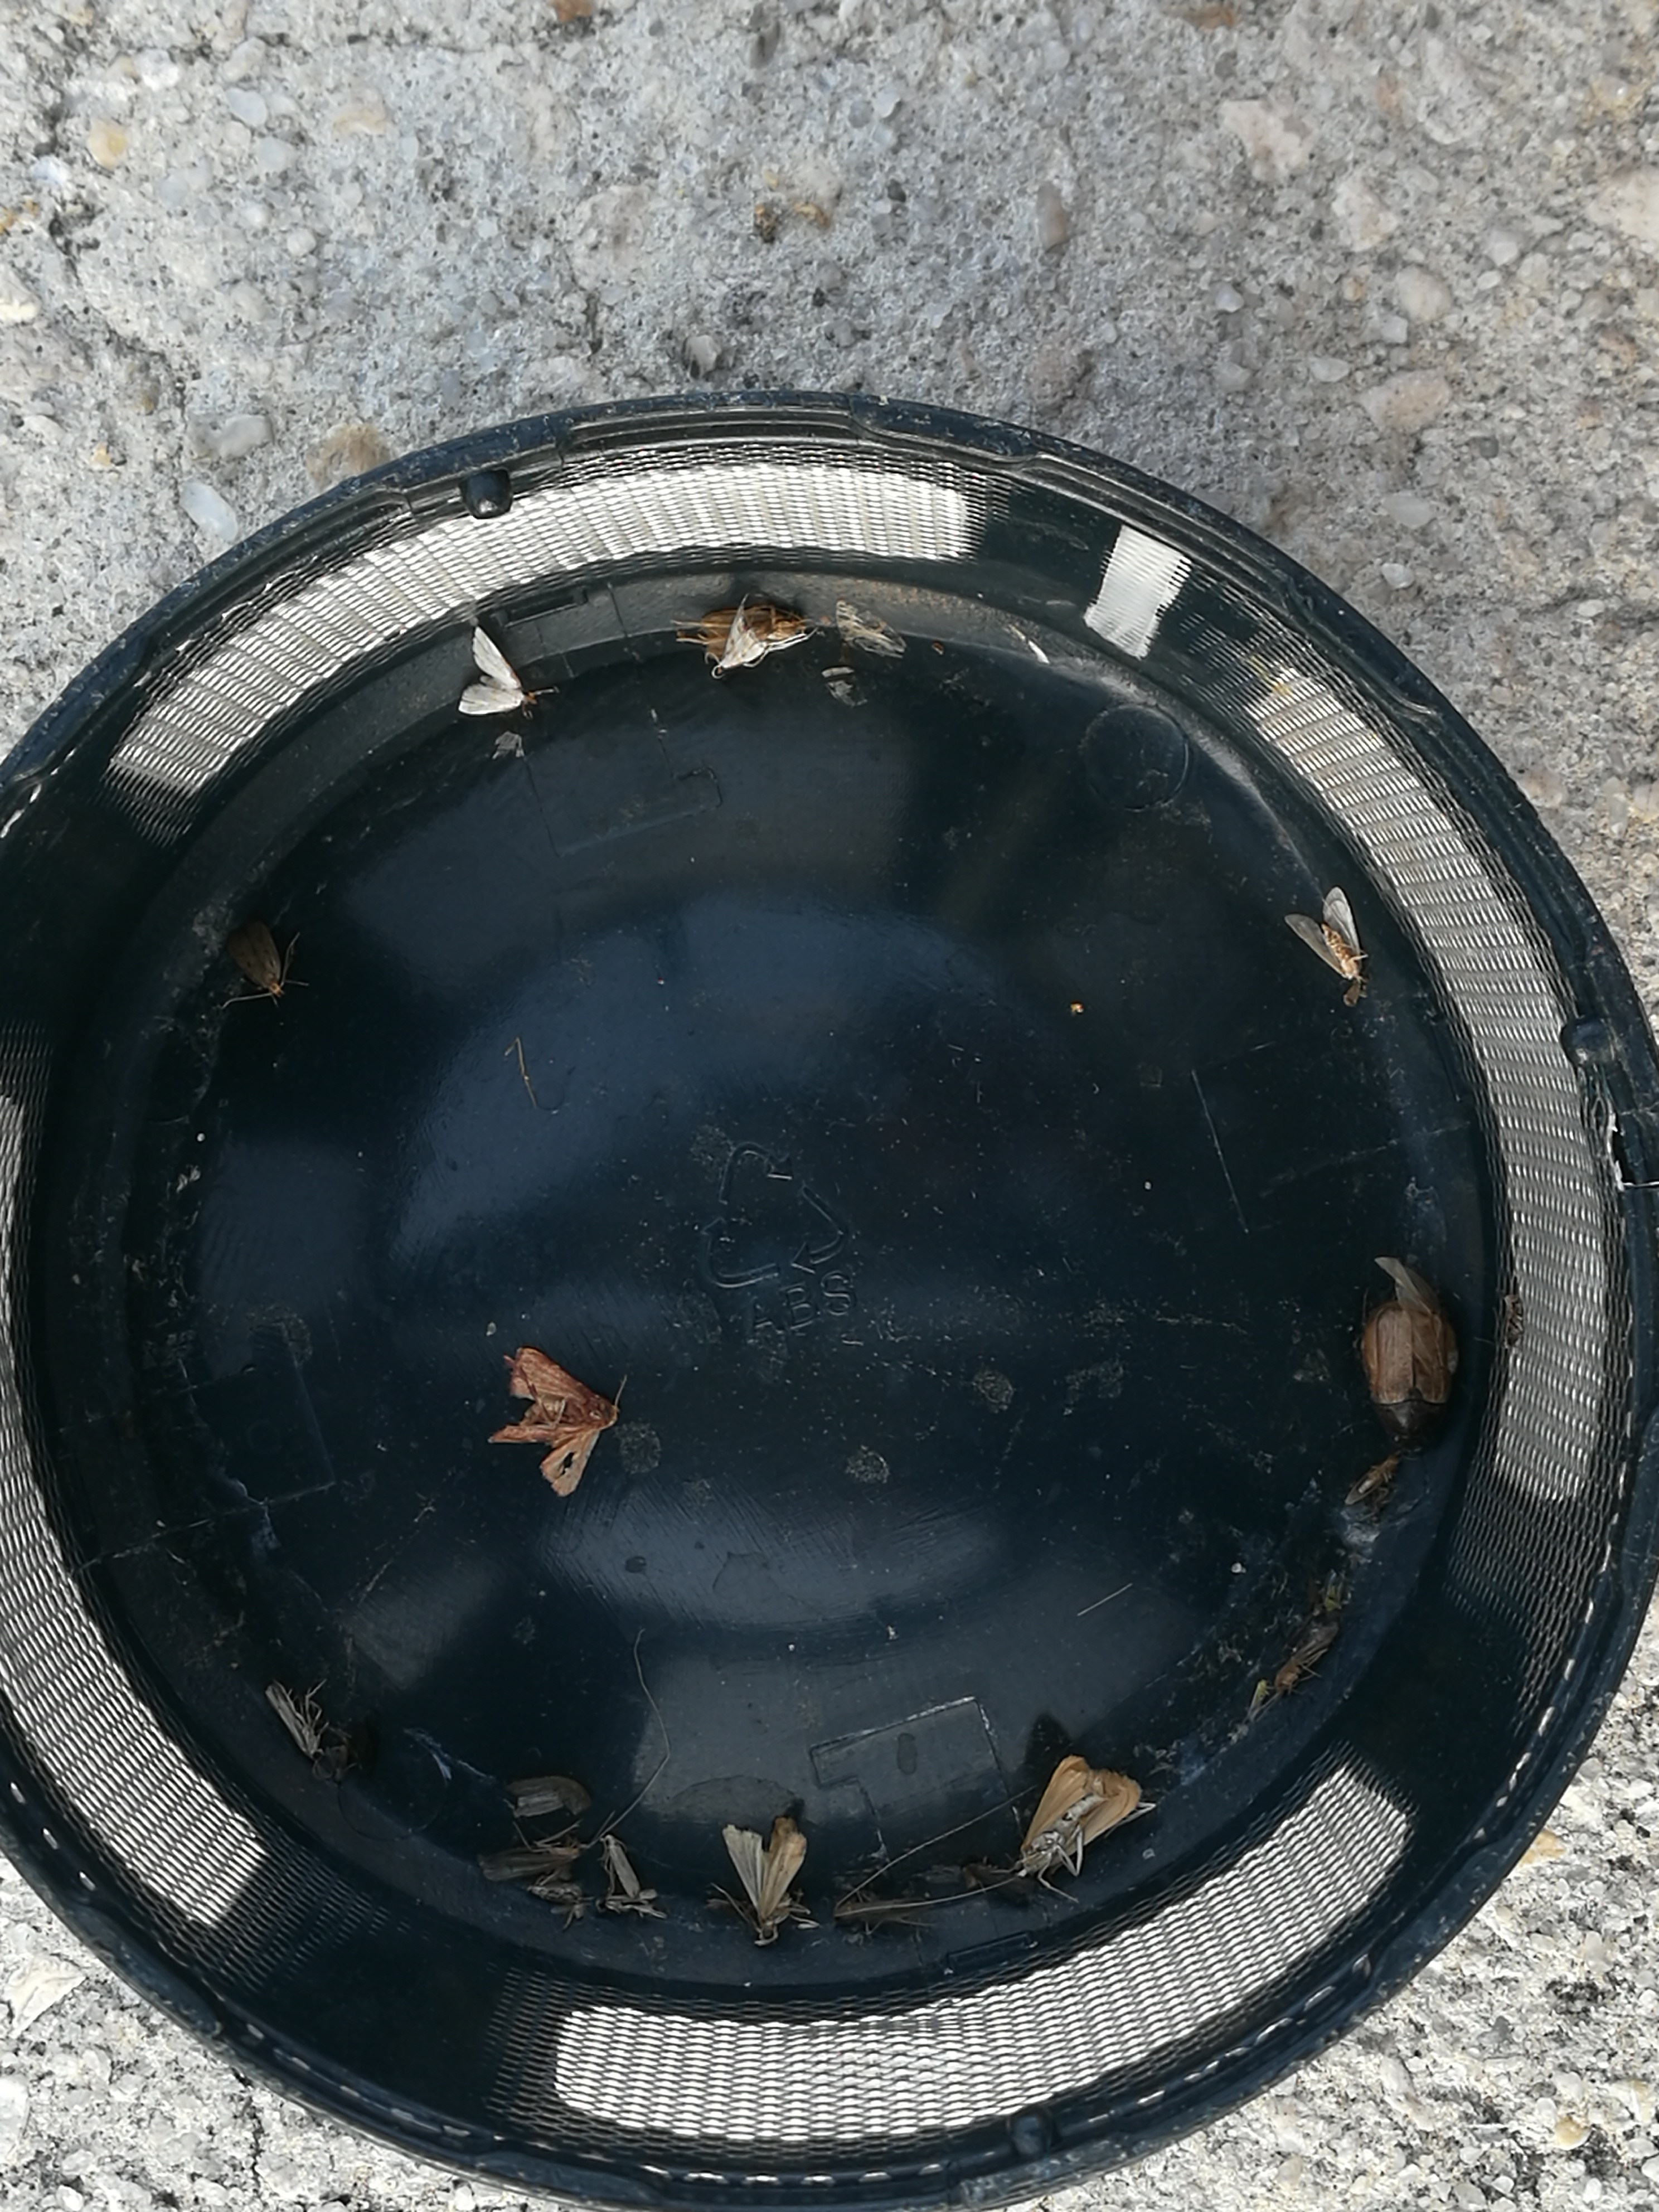beetle: (1364, 1303, 1459, 1437)
mosquito: (1272, 1620, 1342, 1693), (265, 1683, 321, 1761), (699, 610, 800, 650), (479, 1844, 584, 1881), (964, 1860, 1032, 1909), (1349, 1453, 1399, 1505), (601, 1832, 640, 1900), (598, 1890, 662, 1923)
moth: (490, 1348, 619, 1494), (1021, 1756, 1140, 1872), (723, 1817, 807, 1923), (1286, 888, 1359, 979), (460, 629, 523, 716), (228, 920, 279, 993), (721, 596, 765, 667)
